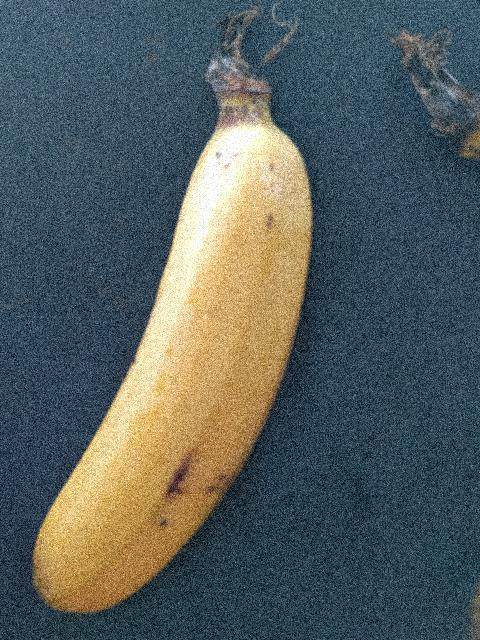freshripe: (0, 119, 321, 639)
